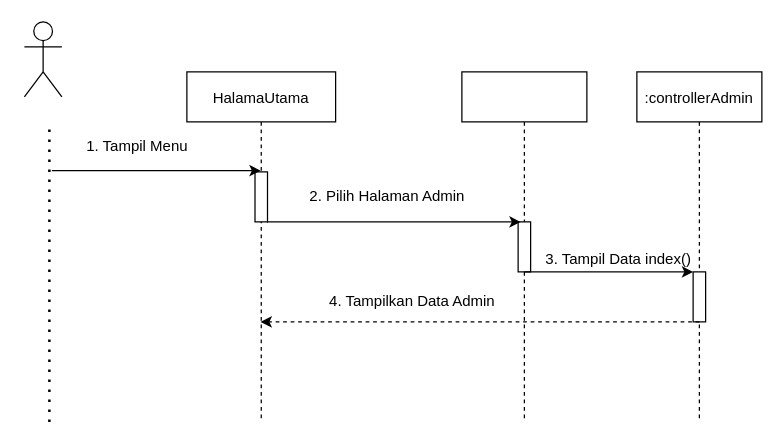
Some shapes in this 784 by 446 pixel diagram are drawn without their labels. Here are the shapes that lost their labels. From the top down, the centre of each, then its label:
the point at 42,59: Admin
the point at 524,246: HalamanAdmin
